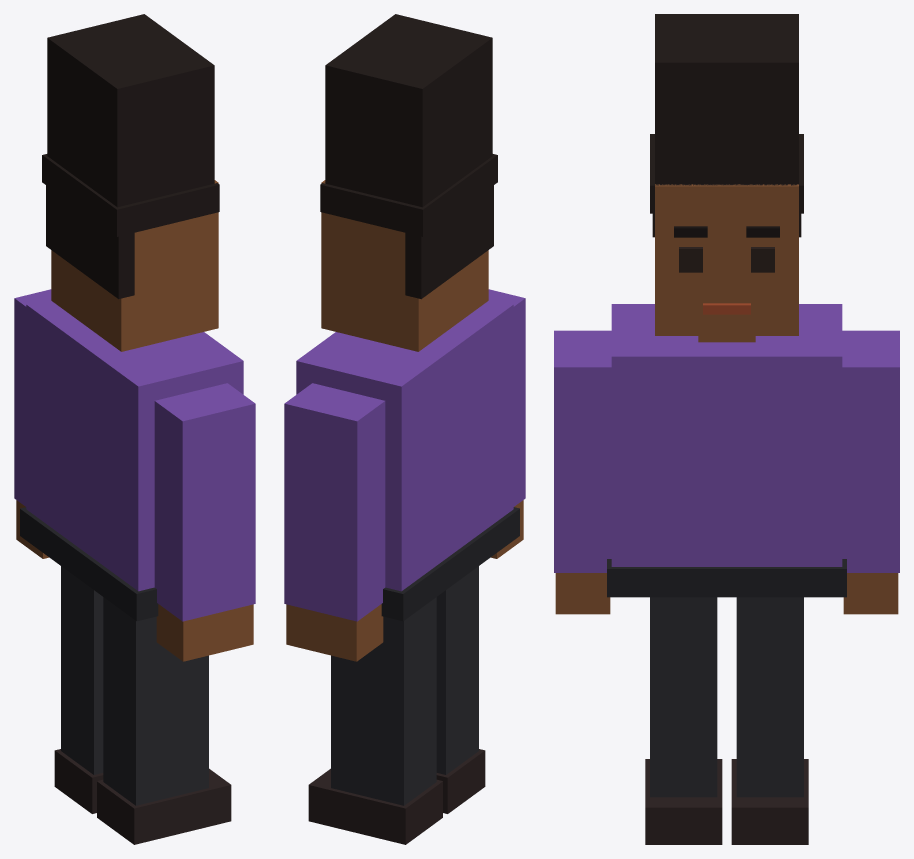
The model's file is parkers_dad.glb.
3 views of the same model, side by side, from view 1: azimuth 30°, elevation 25°; view 2: azimuth 150°, elevation 25°; view 3: azimuth 270°, elevation 25° (orthographic). The views are drawn at different scales.
Parts seen in each view (by area): view 1: Box9, Box18, Box7, Box5, Box12, Box1, Box6, Box20, Box19, Box10, Box8, Box3 (+1 smaller); view 2: Box9, Box18, Box3, Box1, Box12, Box5, Box2, Box20, Box19, Box10, Box4, Box7 (+1 smaller); view 3: Box9, Box18, Box12, Box3, Box7, Box1, Box5, Box10, Box2, Box6, Box4, Box8 (+1 smaller).
Part boxes in pixels (x1,y1,x2,y2): Box9: [26, 298, 243, 591]; Box18: [47, 14, 214, 207]; Box7: [154, 383, 255, 621]; Box5: [103, 597, 208, 805]; Box12: [51, 180, 218, 351]; Box1: [61, 566, 103, 774]; Box6: [97, 768, 231, 844]; Box20: [46, 185, 134, 299]; Box19: [42, 154, 219, 236]; Box10: [20, 507, 158, 621]; Box8: [156, 604, 253, 661]; Box3: [14, 289, 51, 506]; Box9: [296, 298, 513, 591]; Box18: [325, 14, 492, 207]; Box3: [284, 383, 385, 621]; Box1: [331, 597, 436, 805]; Box12: [321, 180, 488, 351]; Box5: [436, 566, 478, 774]; Box2: [308, 768, 442, 844]; Box20: [405, 185, 493, 299]; Box19: [320, 154, 497, 236]; Box10: [381, 507, 519, 621]; Box4: [286, 604, 383, 661]; Box7: [488, 289, 525, 506]; Box9: [611, 304, 842, 566]; Box18: [655, 14, 798, 184]; Box12: [655, 184, 798, 335]; Box3: [842, 330, 899, 572]; Box7: [554, 330, 611, 572]; Box1: [736, 597, 803, 797]; Box5: [650, 597, 717, 797]; Box10: [607, 559, 846, 597]; Box2: [731, 759, 808, 844]; Box6: [645, 759, 722, 844]; Box4: [843, 573, 898, 614]; Box8: [555, 573, 610, 614].
Bounding box in the file's own units: 0.3175 × 2.02 × 0.8165.
